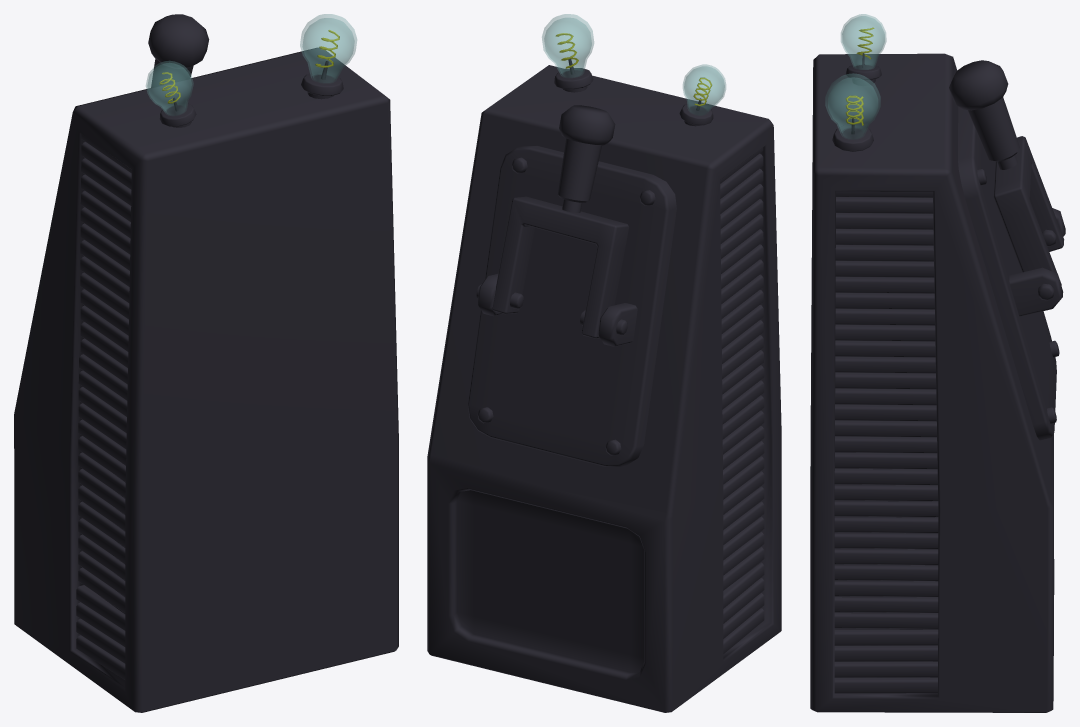
File: DrMonstro_PodiumLever.fbx
3 views of the same model, side by side, from view 1: azimuth 30°, elevation 25°; view 2: azimuth 150°, elevation 25°; view 3: azimuth 270°, elevation 25° (orthographic). The views are drawn at different scales.
Parts seen in each view (by area): view 1: lever_console, lever, bulb4, bulb5, bulb_base1, bulb_base; view 2: lever_console, lever_plate, lever, bulb4, bulb5, bulb_base1, bulb_base; view 3: lever_console, lever_plate, lever, bulb4, bulb5, bulb_base1, bulb_base.
Part boxes in pixels (box(x1,y1,x2,y2)): lever_console: box(14, 48, 398, 712); lever: box(148, 14, 209, 87); bulb4: box(300, 14, 356, 82); bulb5: box(146, 61, 193, 115); bulb_base1: box(301, 61, 343, 99); bulb_base: box(159, 98, 196, 127); lever_console: box(427, 65, 781, 712); lever_plate: box(468, 146, 676, 466); lever: box(492, 105, 628, 338); bulb4: box(542, 14, 593, 77); bulb5: box(683, 64, 725, 115); bulb_base1: box(554, 59, 593, 92); bulb_base: box(679, 98, 713, 126); lever_console: box(810, 53, 1054, 712); lever_plate: box(958, 106, 1065, 440); lever: box(949, 60, 1064, 285); bulb4: box(825, 73, 880, 139); bulb5: box(841, 14, 886, 69); bulb_base1: box(832, 118, 873, 151); bulb_base: box(845, 53, 881, 85).
Size of the model in its own units: 216 by 488 by 184.
